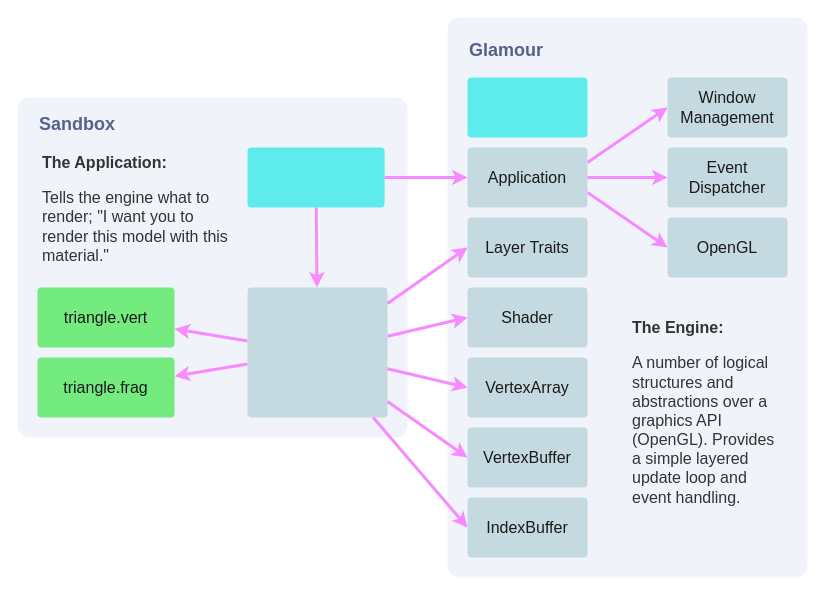
This 824x594 diagram has some shape labels left out. Here are the shapes that lost their labels. From the top down, the centre of each, then its label:
At point (527, 107): "lib".
At point (315, 177): "main".
At point (317, 352): "TriangleLayer".
